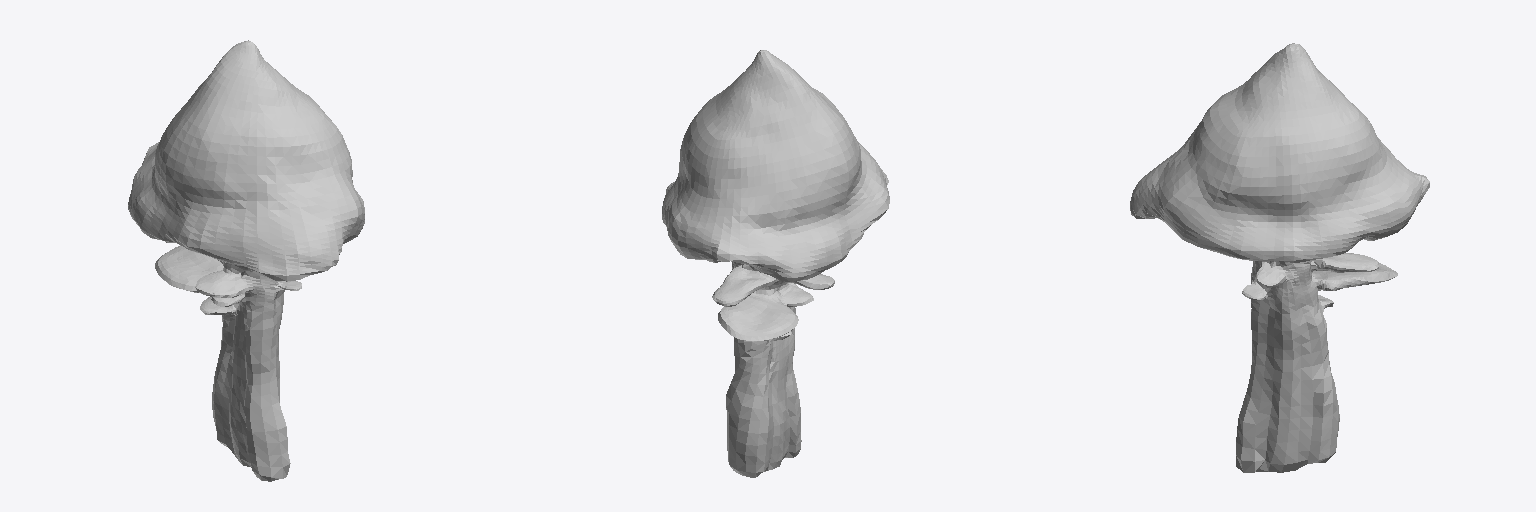
File: PilzBaum.obj
The picture shows the model from 3 angles: view 1: azimuth 30°, elevation 25°; view 2: azimuth 150°, elevation 25°; view 3: azimuth 270°, elevation 25°; orthographic projection.
Parts seen in each view (by area): view 1: lowpoly:Mesh; view 2: lowpoly:Mesh; view 3: lowpoly:Mesh.
Boxes of the visible parts, x1,y1,x2,y2 form: lowpoly:Mesh: [128, 40, 364, 481]; lowpoly:Mesh: [662, 50, 889, 477]; lowpoly:Mesh: [1130, 43, 1429, 472].
Bounding box in the file's own units: 3.79 × 8.03 × 5.2.